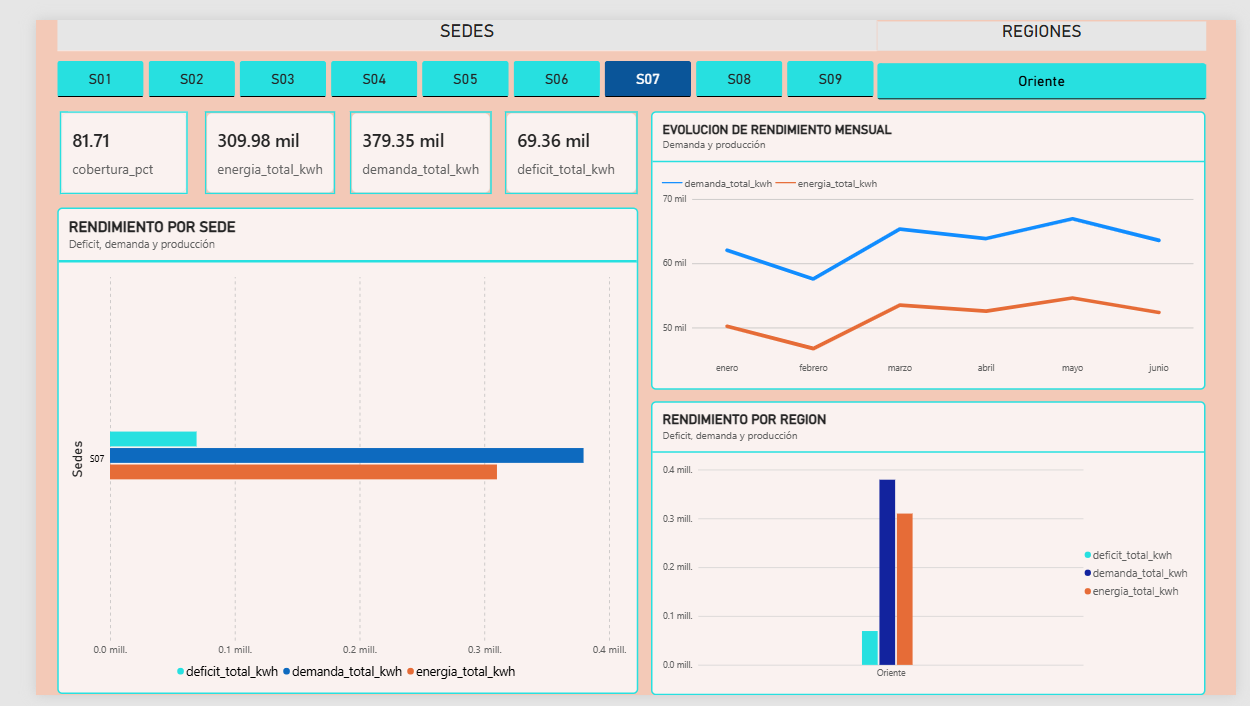

The page's visual inventory and layout, read from the dashboard file:
{"tool":"powerbi","page":{"name":"Página 1","canvas":[1920,1080],"ordinal":0},"visuals":[{"type":"cardVisual","fields":{"Data":["FactOperaciones.cobertura_pct"]},"box":[37.5,146.9,205.8,133.1],"z":0},{"type":"cardVisual","fields":{"Data":["FactOperaciones.deficit_total_kwh"]},"box":[749.6,146.9,213.8,133.1],"z":1000},{"type":"cardVisual","fields":{"Data":["FactOperaciones.demanda_total_kwh"]},"box":[501.5,146.9,227.9,133.1],"z":2000},{"type":"cardVisual","fields":{"Data":["FactOperaciones.energia_total_kwh"]},"box":[269.5,146.9,209.8,133.1],"z":3000},{"type":"advancedSlicerVisual","title":"REGIONES","fields":{"Values":["DimSede.region"]},"box":[1346.4,1.8,526.5,145.2],"z":4000},{"type":"advancedSlicerVisual","title":"SEDES","fields":{"Values":["DimSede.sede_id"]},"box":[34.3,0,1311.2,123.1],"z":5000},{"type":"lineChart","title":"EVOLUCION DE RENDIMIENTO MENSUAL","fields":{"Category":["DimCalendario.Date.Variación.Jerarquía de fechas.Mes"],"Y":["FactOperaciones.demanda_total_kwh","FactOperaciones.energia_total_kwh"]},"box":[984.4,145.2,887.6,445.8],"z":6000},{"type":"clusteredColumnChart","title":"RENDIMIENTO POR REGION","fields":{"Category":["DimSede.region"],"Y":["FactOperaciones.deficit_total_kwh","FactOperaciones.demanda_total_kwh","FactOperaciones.energia_total_kwh"]},"box":[984.4,609.2,887.6,470],"z":7000},{"type":"clusteredBarChart","title":"RENDIMIENTO POR SEDE","fields":{"Category":["DimSede.sede_id"],"Y":["FactOperaciones.deficit_total_kwh","FactOperaciones.demanda_total_kwh","FactOperaciones.energia_total_kwh"]},"box":[34.3,300.6,929.9,778.7],"z":8000}]}

Visuals, with their boxes in screenshot pixels (x1, y1, x2, y2), scaled from the page's 1920x1080 canvas onto the 1250x706 screenshot:
cardVisual - FactOperaciones.cobertura_pct: left=24, top=96, right=158, bottom=183
cardVisual - FactOperaciones.deficit_total_kwh: left=488, top=96, right=627, bottom=183
cardVisual - FactOperaciones.demanda_total_kwh: left=326, top=96, right=475, bottom=183
cardVisual - FactOperaciones.energia_total_kwh: left=175, top=96, right=312, bottom=183
"REGIONES" advancedSlicerVisual: left=877, top=1, right=1219, bottom=96
"SEDES" advancedSlicerVisual: left=22, top=0, right=876, bottom=80
"EVOLUCION DE RENDIMIENTO MENSUAL" lineChart: left=641, top=95, right=1219, bottom=386
"RENDIMIENTO POR REGION" clusteredColumnChart: left=641, top=398, right=1219, bottom=705
"RENDIMIENTO POR SEDE" clusteredBarChart: left=22, top=197, right=628, bottom=705
